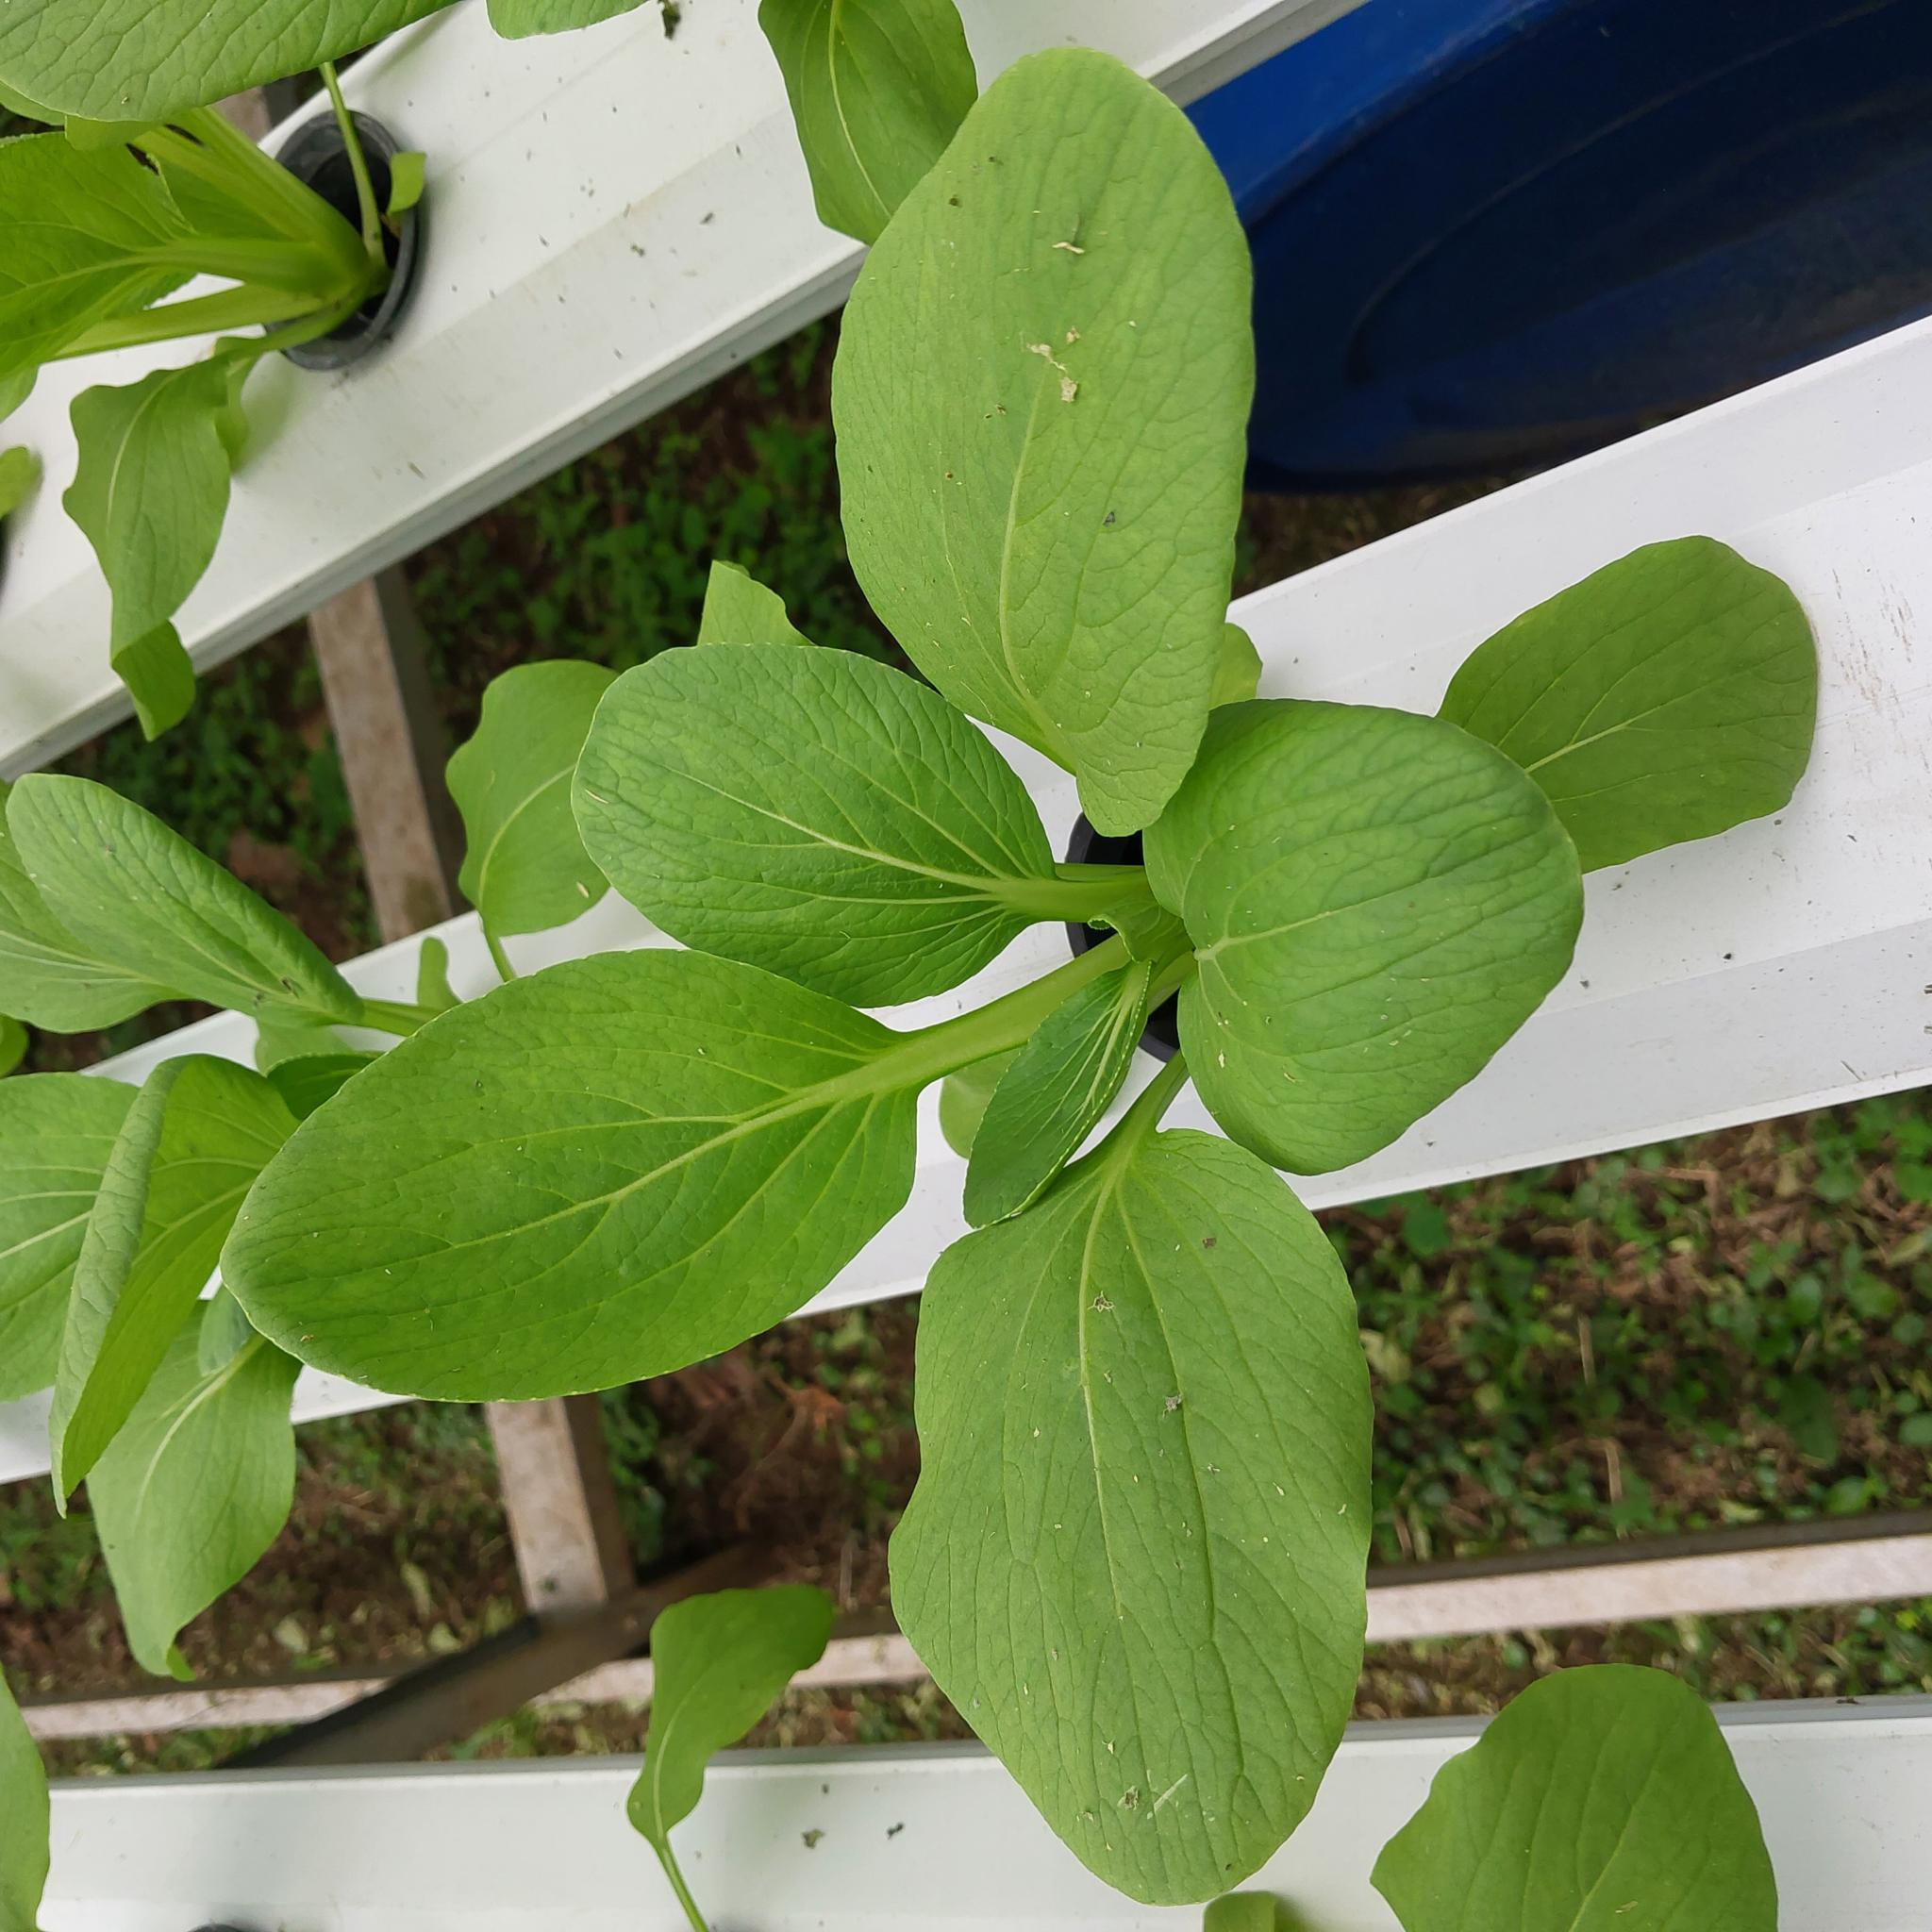Healthy-Pechay: (747, 867, 1364, 1916), (214, 957, 989, 1401), (881, 35, 1187, 819), (1136, 713, 1582, 1132), (571, 644, 1049, 1016), (2, 1053, 340, 1506), (1431, 536, 1824, 876), (906, 1138, 1086, 1817), (2, 775, 426, 1046), (1369, 1663, 1783, 1923), (833, 138, 1001, 729), (78, 1288, 304, 1684), (58, 347, 264, 732), (623, 1580, 839, 1928), (64, 658, 357, 897), (0, 129, 228, 428), (0, 2, 492, 133), (441, 656, 630, 971), (122, 113, 380, 331), (757, 2, 961, 248), (1148, 701, 1343, 943), (837, 959, 1090, 1143), (23, 258, 357, 368), (2, 1615, 53, 1932), (317, 58, 391, 267), (598, 1380, 679, 1569), (692, 557, 810, 646), (640, 1813, 715, 1927), (58, 110, 172, 154), (0, 444, 41, 550), (382, 149, 426, 216)
